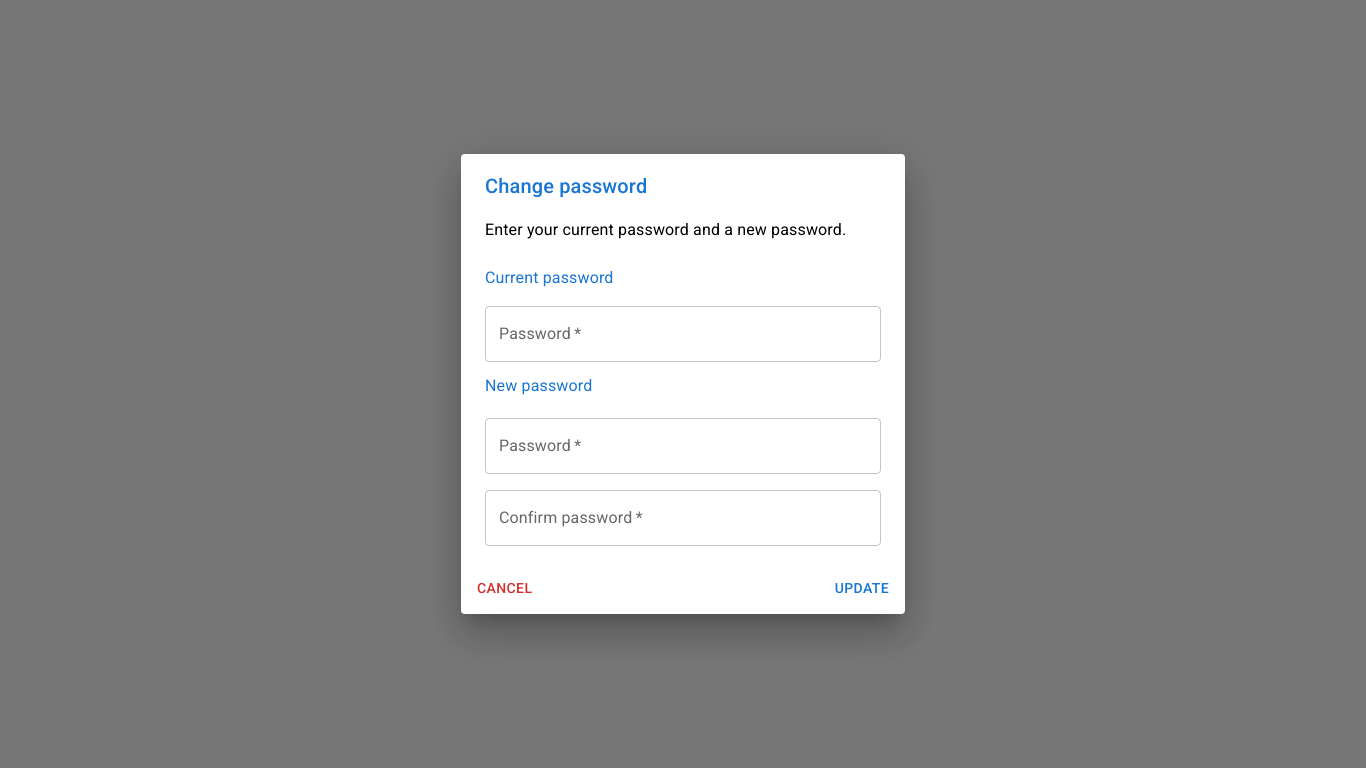
ChangePasswordDialog › should show an error message when new password is invalid
This screenshot has width=1366, height=768.
Type "OldPassword1234" into the 1st password field labelled "Password *" at coordinates (683, 334), box top-left (485, 306), bottom-right (881, 362)
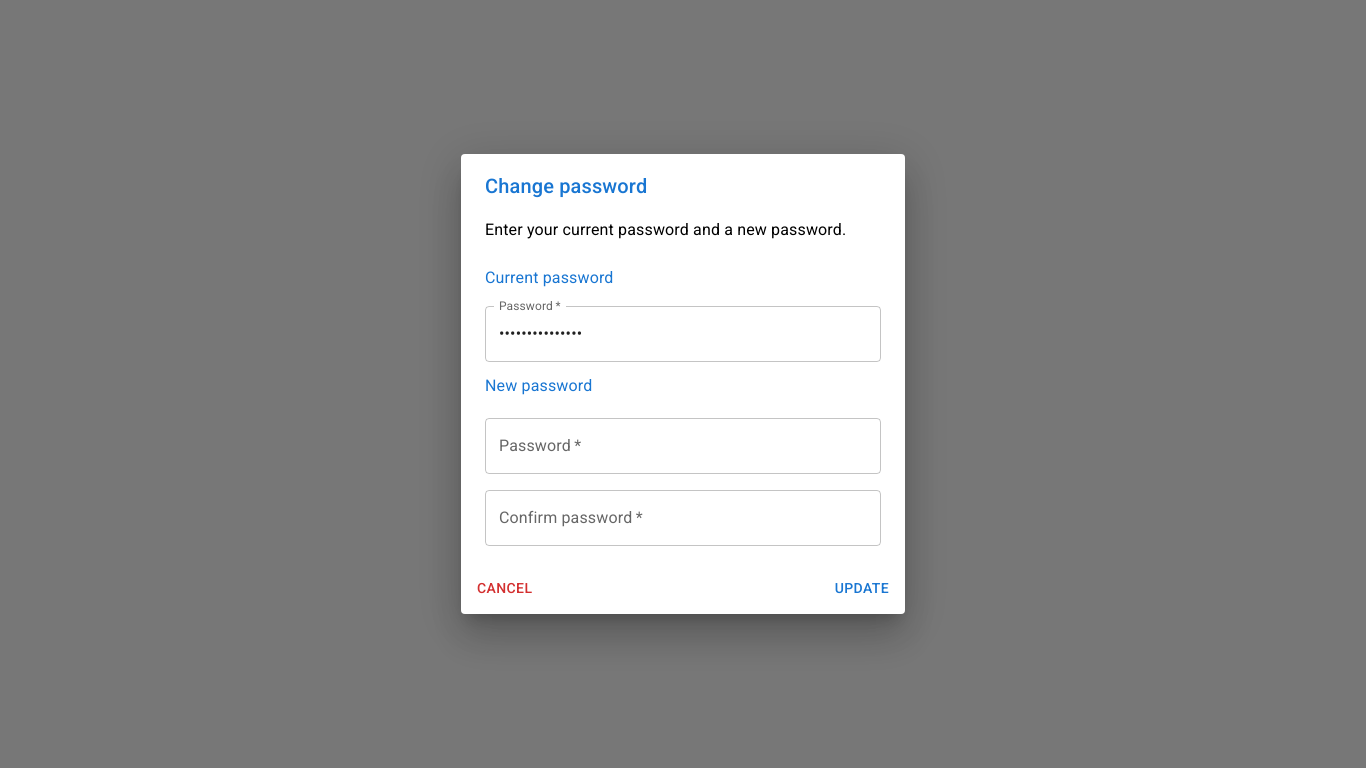
Type "password" into the 2nd password field labelled "Password *" at coordinates (683, 446), box top-left (485, 418), bottom-right (881, 474)
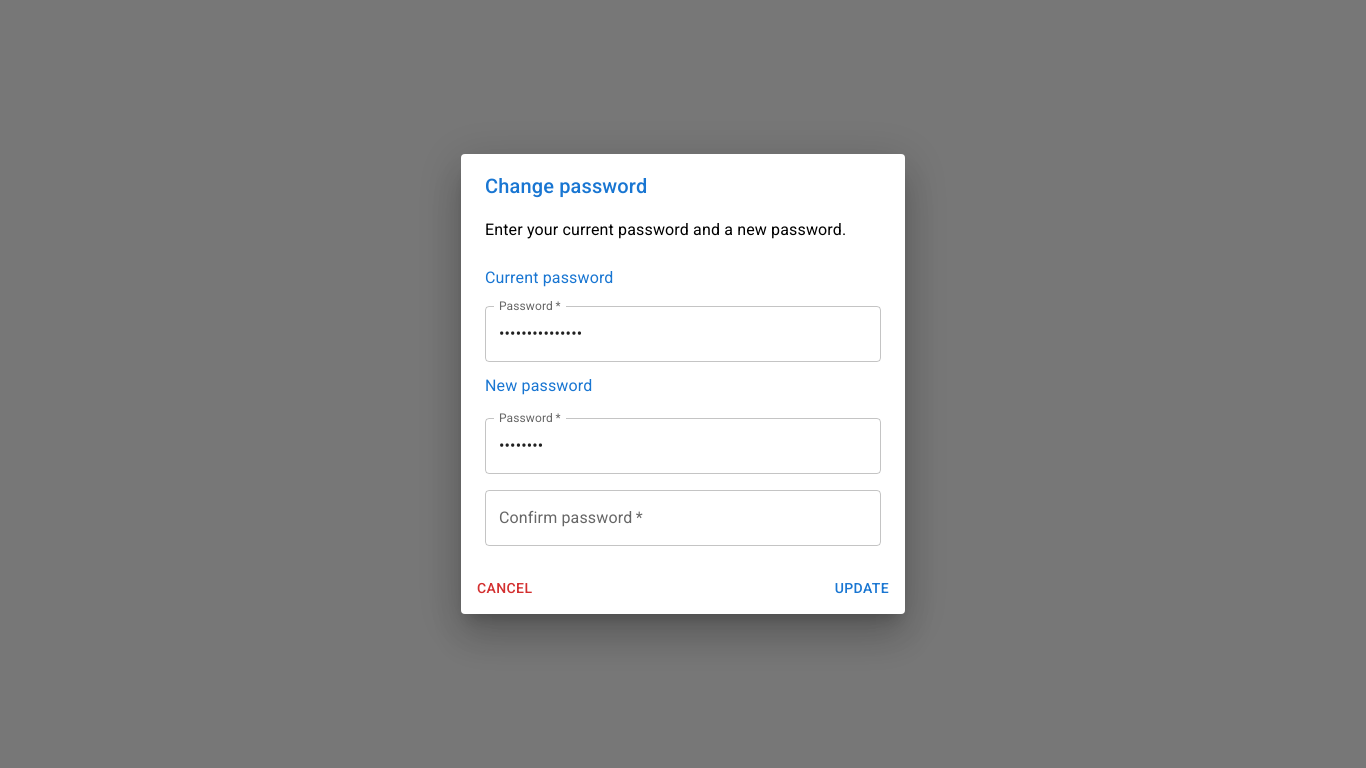
Type "password" into the password field labelled "Confirm password *" at coordinates (683, 518), box top-left (485, 490), bottom-right (881, 546)
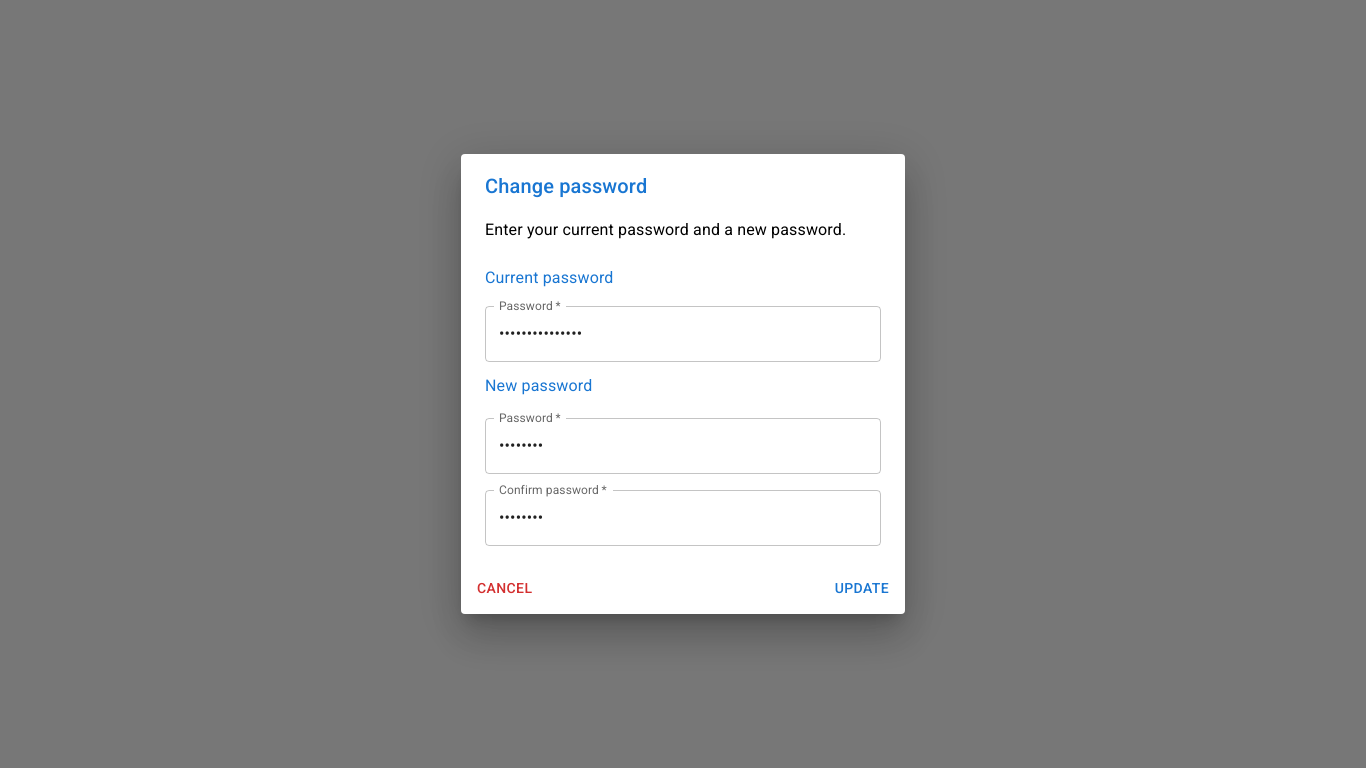
Click the button "Update" at coordinates (862, 588), box top-left (827, 570), bottom-right (897, 606)
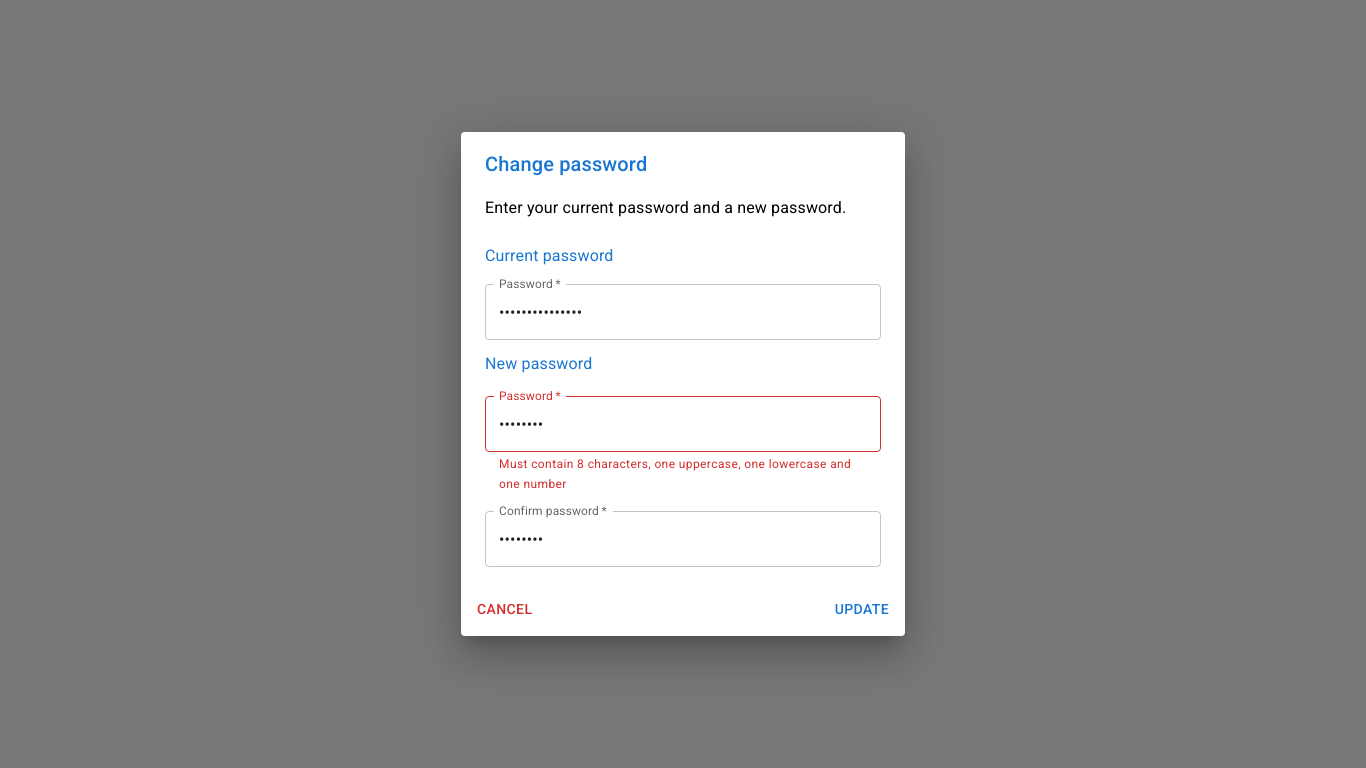
Expected: the text "Must contain 8 characters, one uppercase, one lowercase and one number" is shown, top-left (499, 455), bottom-right (867, 495)
